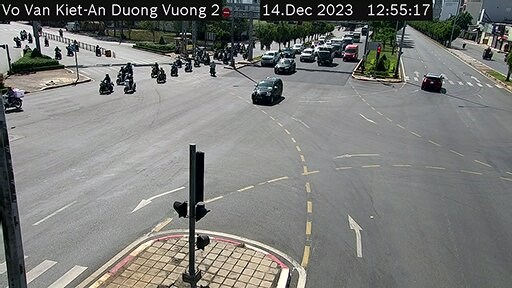car: (250, 77, 284, 106), (416, 72, 449, 90), (299, 45, 316, 63), (275, 56, 292, 71)
truck: (317, 41, 336, 66)
